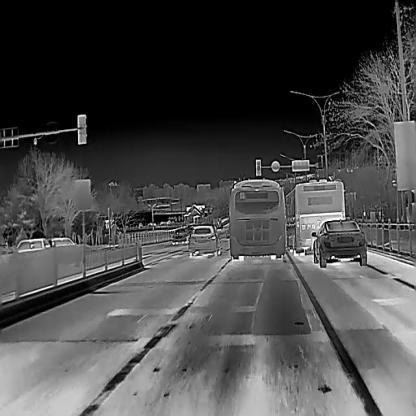car: (285, 181, 345, 256), (229, 186, 285, 259), (313, 218, 367, 267), (188, 223, 220, 257), (14, 237, 50, 252), (47, 236, 75, 247), (171, 228, 189, 244)
